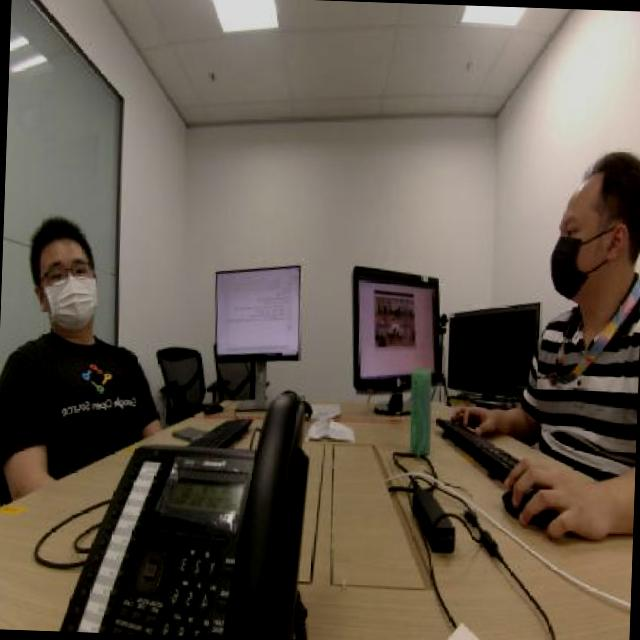Person: (519, 120, 640, 468), (6, 180, 156, 434)
